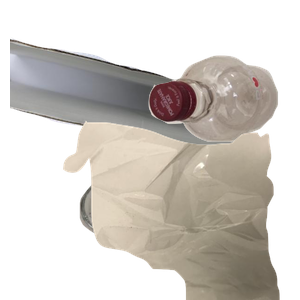cardboard: (10, 35, 250, 188)
glass: (77, 178, 205, 300)
plastic: (146, 53, 300, 187)
trash: (61, 120, 300, 300)
